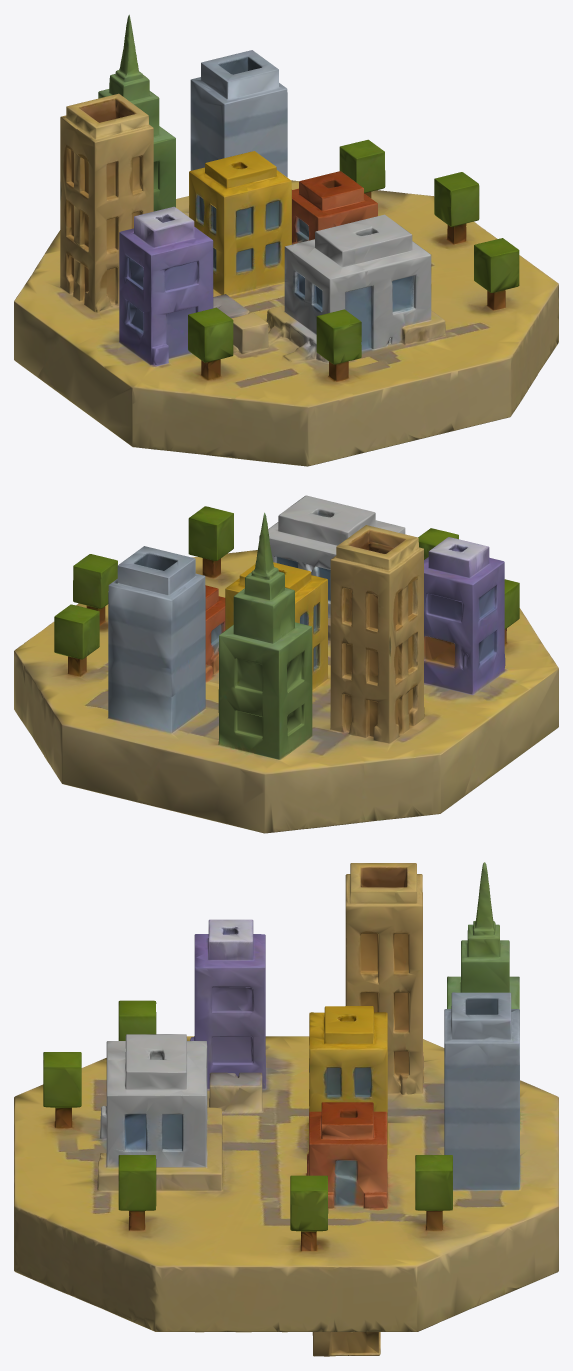
Rendered from city.glb.
The picture shows the model from 3 angles, top to bottom: view 1: azimuth 30°, elevation 25°; view 2: azimuth 150°, elevation 25°; view 3: azimuth 270°, elevation 25°; orthographic projection. The views are drawn at different scales.
Parts seen in each view (by area): view 1: tripo_node_a8f40234-3f74-47be-acd1-e252368cf78b; view 2: tripo_node_a8f40234-3f74-47be-acd1-e252368cf78b; view 3: tripo_node_a8f40234-3f74-47be-acd1-e252368cf78b.
Boxes of the visible parts, x1=… form: tripo_node_a8f40234-3f74-47be-acd1-e252368cf78b: x1=14, y1=14, x2=558, y2=466; tripo_node_a8f40234-3f74-47be-acd1-e252368cf78b: x1=14, y1=495, x2=558, y2=833; tripo_node_a8f40234-3f74-47be-acd1-e252368cf78b: x1=14, y1=862, x2=558, y2=1356.
Bounding box in the file's own units: 0.9998 × 0.8204 × 0.9999.
1 material, 1 textured.
